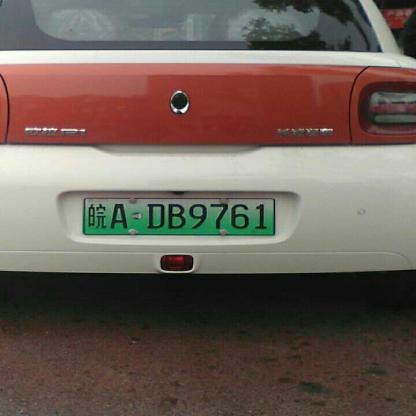lp: (82, 197, 274, 235)
